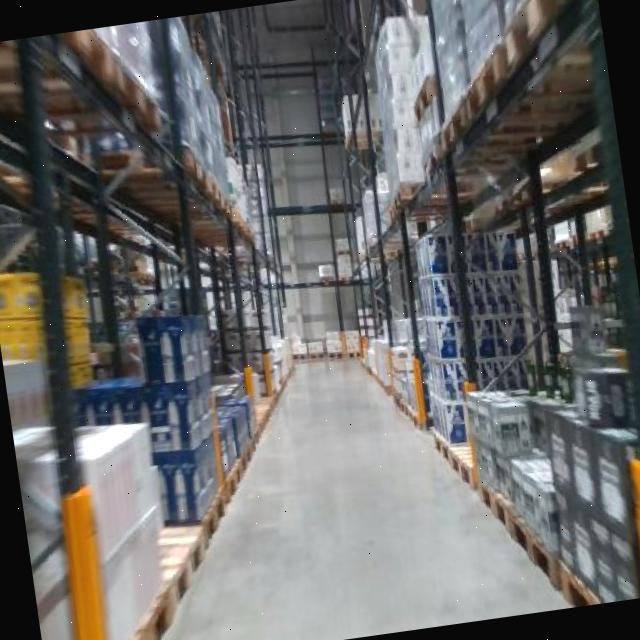pallet: (143, 518, 222, 621), (511, 490, 566, 588), (474, 460, 522, 540), (442, 428, 488, 493), (304, 343, 329, 368), (324, 349, 349, 366)
